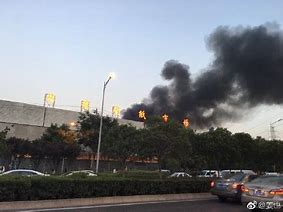smoke: (125, 22, 283, 118)
